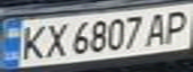0: (106, 16, 130, 52)
6: (69, 18, 93, 56)
7: (124, 12, 148, 50)
8: (87, 17, 112, 53)
A: (142, 10, 172, 47)
K: (15, 21, 48, 62)
P: (160, 7, 193, 45)
X: (39, 20, 72, 58)
